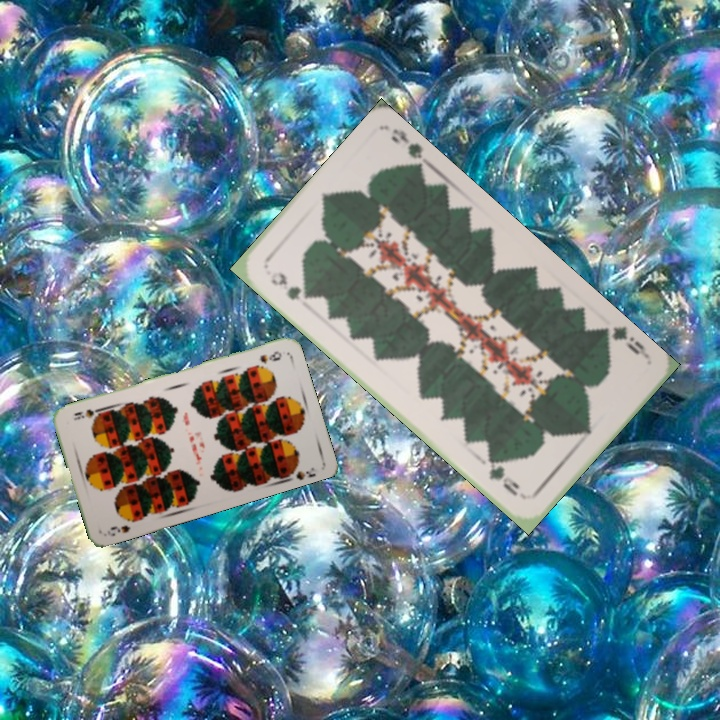G9: (598, 322, 652, 359), (266, 267, 304, 303)
S9: (106, 513, 141, 536), (256, 347, 285, 366)
